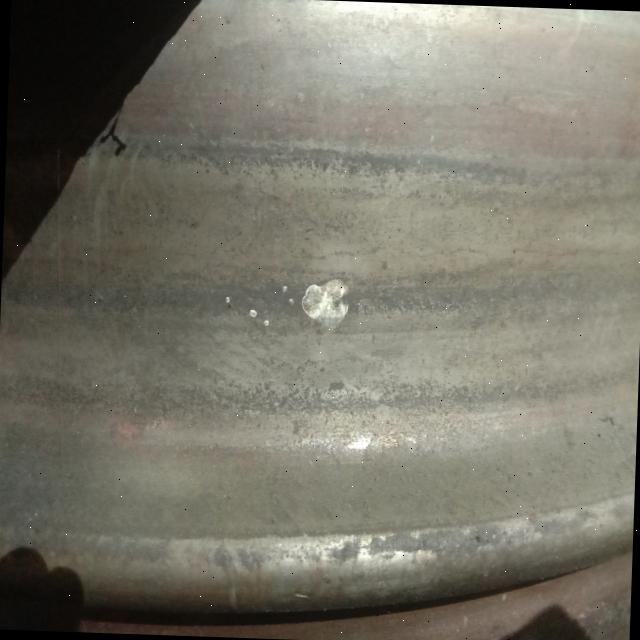flat: (226, 236, 367, 378)
